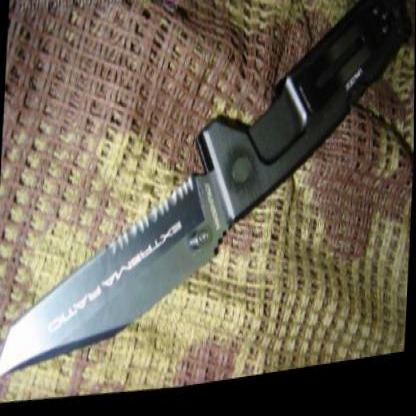knife: (0, 150, 248, 400)
